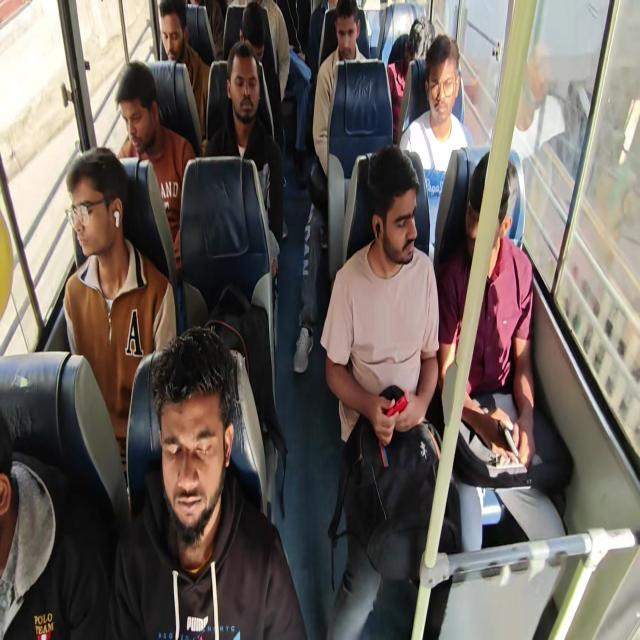person: (320, 144, 461, 638), (107, 325, 308, 638), (436, 149, 572, 552), (62, 146, 177, 487), (293, 0, 369, 374), (203, 41, 284, 352), (0, 411, 110, 639), (115, 60, 196, 281), (398, 34, 468, 260), (312, 0, 368, 176), (158, 0, 211, 139), (238, 1, 284, 147), (386, 17, 436, 144)
